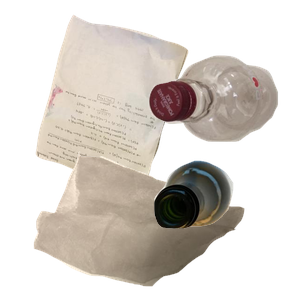glass: (151, 158, 300, 300)
paper: (33, 12, 214, 192)
plastic: (146, 53, 300, 187)
trash: (31, 149, 268, 300)
